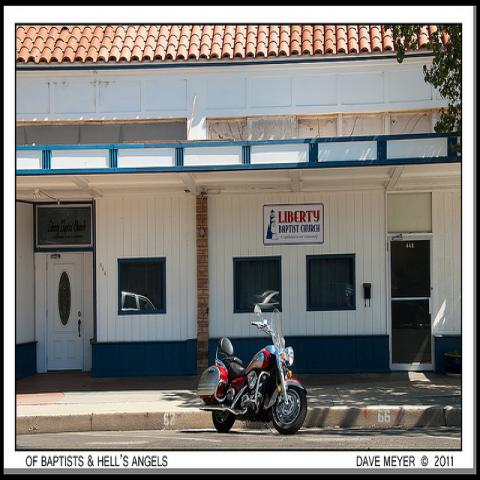car: (122, 292, 158, 312)
motorcycle: (196, 302, 309, 434)
